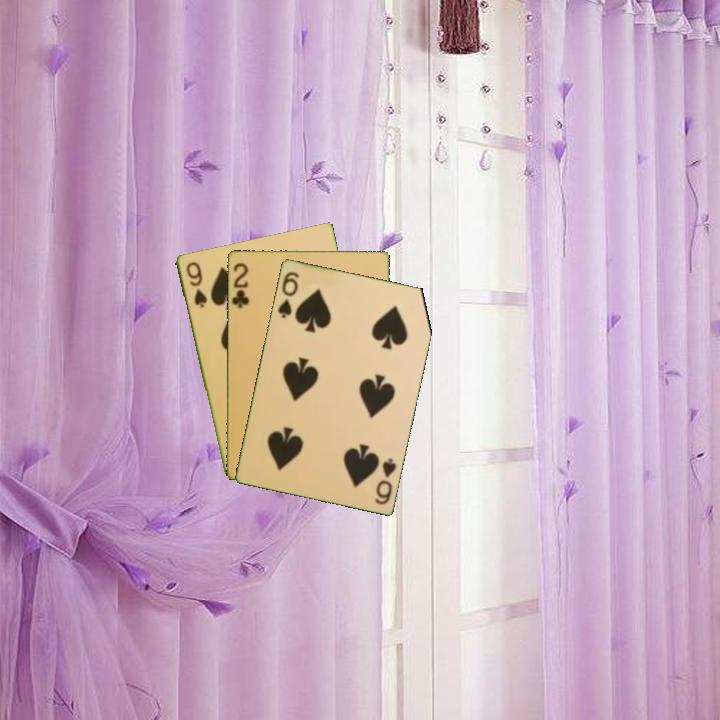2c: (228, 259, 251, 310)
6s: (371, 454, 399, 507), (274, 268, 301, 321)
9s: (182, 258, 210, 310)
